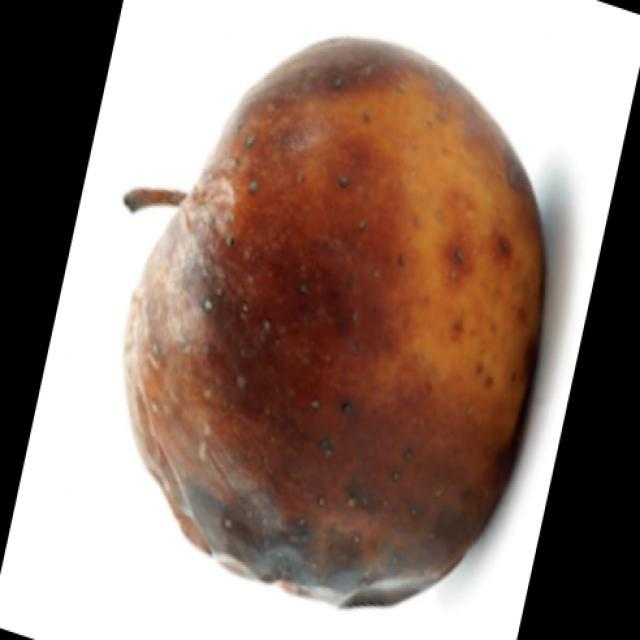Rotten: (127, 67, 533, 588)
